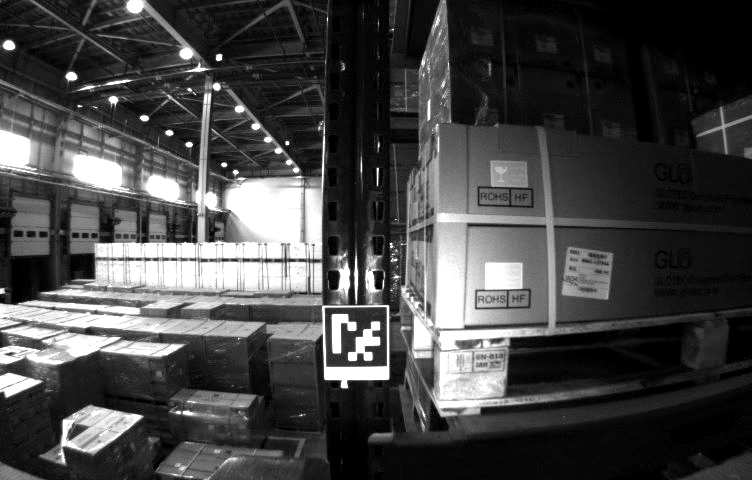True Barcode: (561, 248, 615, 301)
